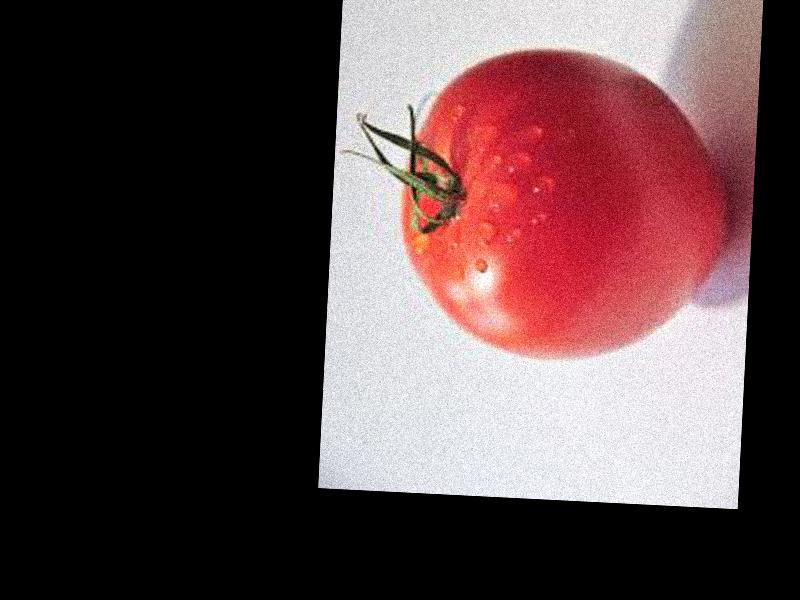Tomato: (398, 44, 735, 368)
